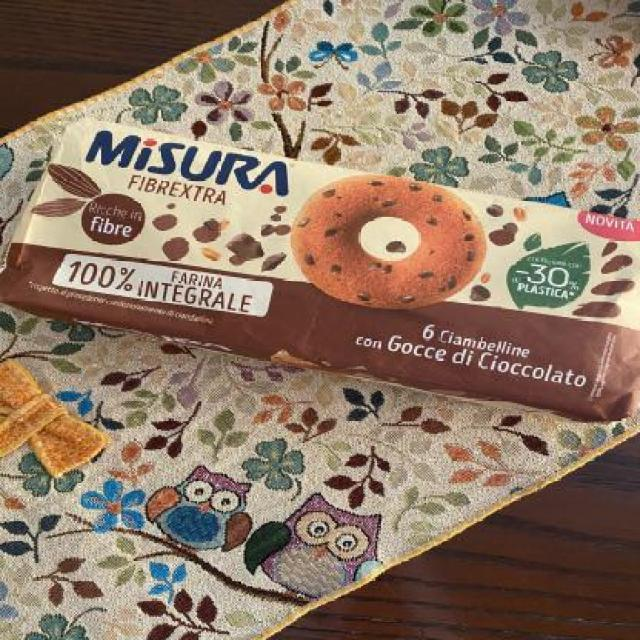Merendine: (20, 115, 638, 431)
